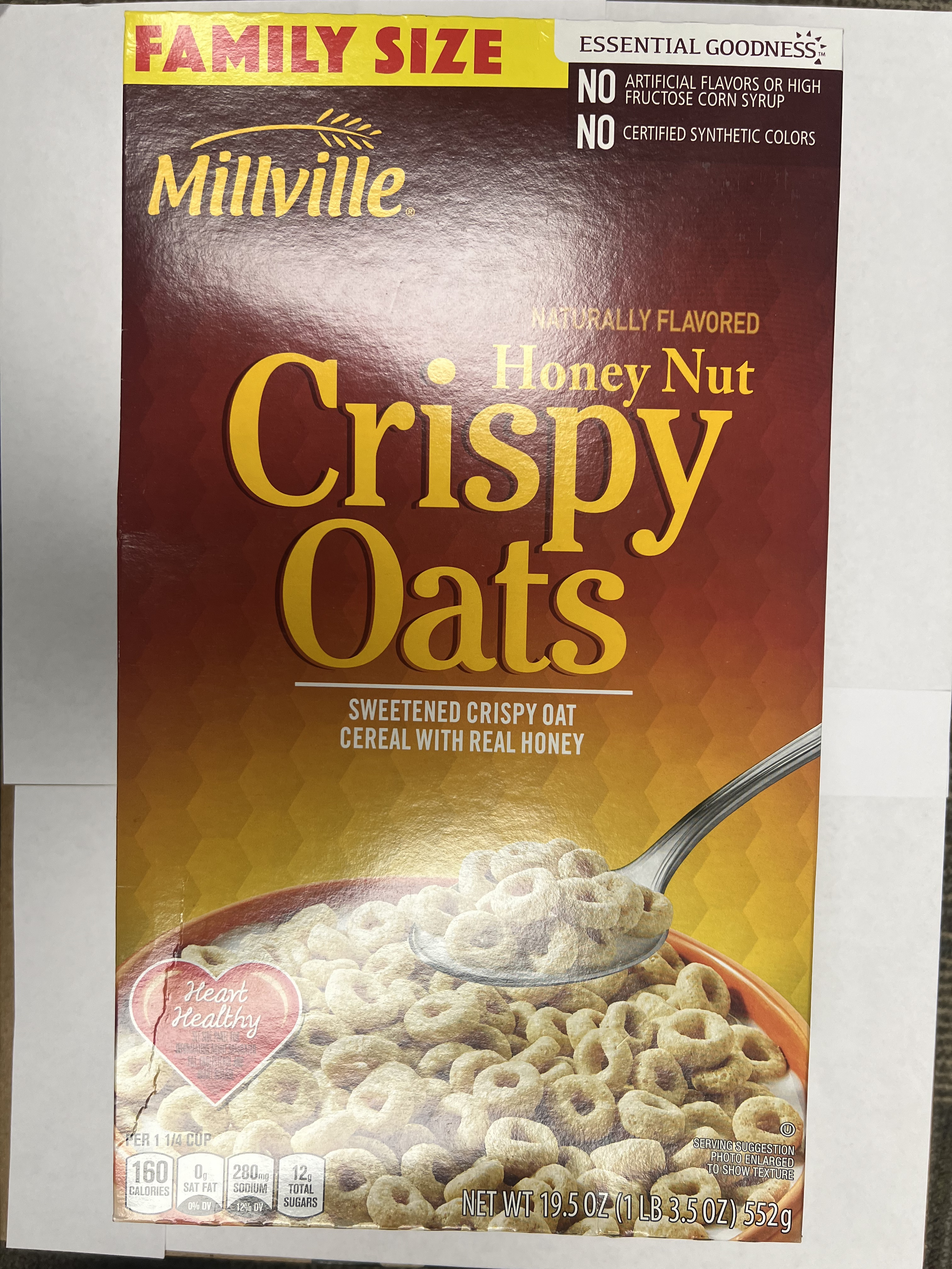packaged: (102, 0, 851, 1251)
